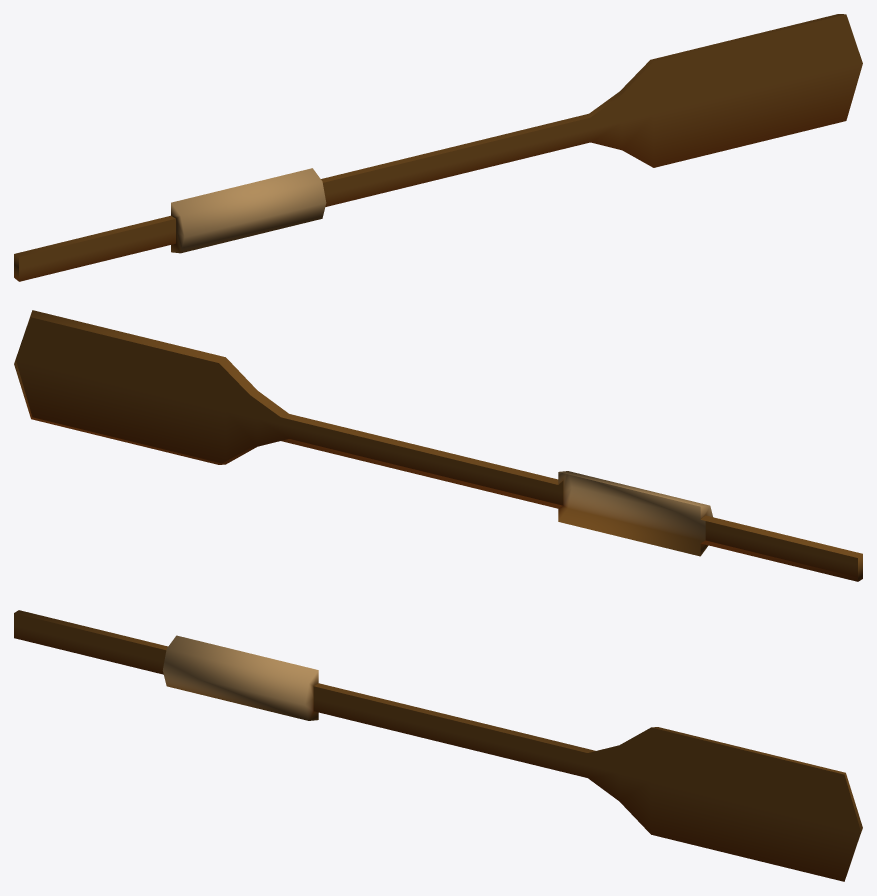
File: H&J_Remo.fbx
3 views of the same model, one above another, from view 1: azimuth 30°, elevation 25°; view 2: azimuth 150°, elevation 25°; view 3: azimuth 330°, elevation 25° (orthographic).
Parts seen in each view (by area): view 1: LAGS_Remo; view 2: LAGS_Remo; view 3: LAGS_Remo.
Part boxes in pixels (left/top/right/bottom): LAGS_Remo: left=14, top=14, right=862, bottom=281; LAGS_Remo: left=14, top=310, right=862, bottom=581; LAGS_Remo: left=14, top=610, right=862, bottom=881.
Bounding box in the file's own units: 243 × 29.33 × 6.81.
